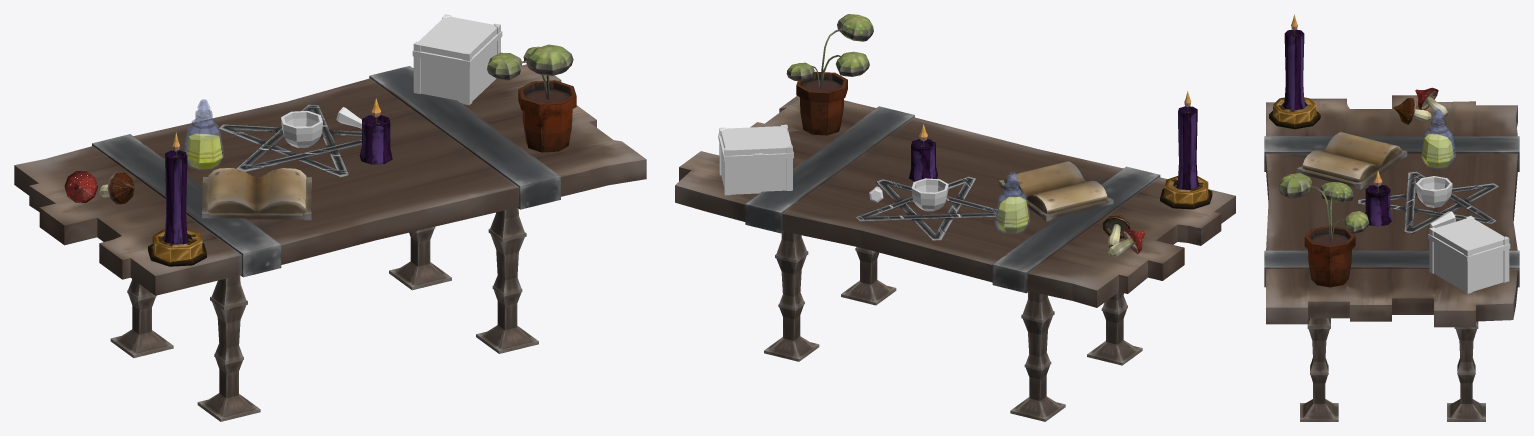
Rendered from stol_alchemiczny.fbx.
3 renders of one model, left to right at view 1: azimuth 30°, elevation 25°; view 2: azimuth 150°, elevation 25°; view 3: azimuth 270°, elevation 25°, orthographic. The views are drawn at different scales.
Parts seen in each view (by area): view 1: table top, pudełko, ksiazka otwarta, leg1.003, leg1, doniczka, pentagram.001, Cylinder004, leg1.001, fiolka zolta, leg1.002, Cylinder002.011 (+7 smaller); view 2: table top, pudełko, ksiazka otwarta, leg1.002, leg1.001, doniczka, pentagram.001, leg1, Cylinder004, fiolka zolta, leg1.003, Cylinder002.002 (+7 smaller); view 3: table top, pudełko, ksiazka otwarta, doniczka, leg1.003, pentagram.001, leg1.002, Cylinder004, fiolka zolta, Cylinder002.011, Cylinder002.002, moździerz (+7 smaller).
Part boxes in pixels (box(x1,y1,x2,y2)): table top: box(14, 64, 646, 295); pudełko: box(412, 14, 502, 105); ksiazka otwarta: box(202, 168, 311, 220); leg1.003: box(476, 207, 538, 353); leg1: box(197, 275, 260, 421); doniczka: box(518, 80, 576, 152); pentagram.001: box(219, 104, 390, 177); Cylinder004: box(163, 132, 188, 244); leg1.001: box(110, 279, 173, 357); fiolka zolta: box(183, 99, 224, 170); leg1.002: box(389, 226, 451, 290); Cylinder002.011: box(359, 98, 392, 164); table top: box(675, 96, 1235, 307); pudełko: box(718, 124, 793, 195); ksiazka otwarta: box(998, 161, 1113, 221); leg1.002: box(764, 231, 819, 361); leg1.001: box(1010, 291, 1065, 421); doniczka: box(796, 71, 847, 135); pentagram.001: box(856, 176, 998, 240); leg1: box(1087, 292, 1142, 365); Cylinder004: box(1176, 90, 1198, 189); fiolka zolta: box(994, 171, 1030, 234); leg1.003: box(841, 247, 896, 305); Cylinder002.002: box(1160, 176, 1212, 209); table top: box(1264, 95, 1519, 327); pudełko: box(1428, 216, 1510, 293); ksiazka otwarta: box(1296, 132, 1407, 189); doniczka: box(1304, 226, 1355, 287); leg1.003: box(1300, 318, 1338, 421); pentagram.001: box(1358, 171, 1498, 233); leg1.002: box(1447, 321, 1485, 421); Cylinder004: box(1283, 14, 1305, 110); fiolka zolta: box(1420, 109, 1456, 169); Cylinder002.011: box(1365, 170, 1392, 226); Cylinder002.002: box(1269, 97, 1320, 129); moździerz: box(1416, 176, 1452, 207).
Size of the model in its own units: 282 by 157 by 142.
